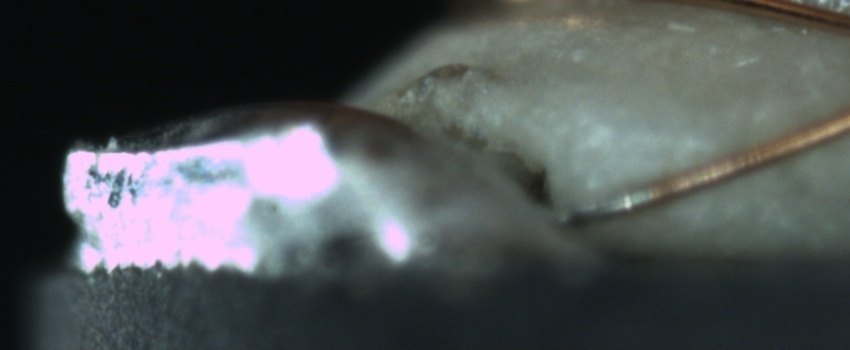TS: (563, 181, 656, 226)
